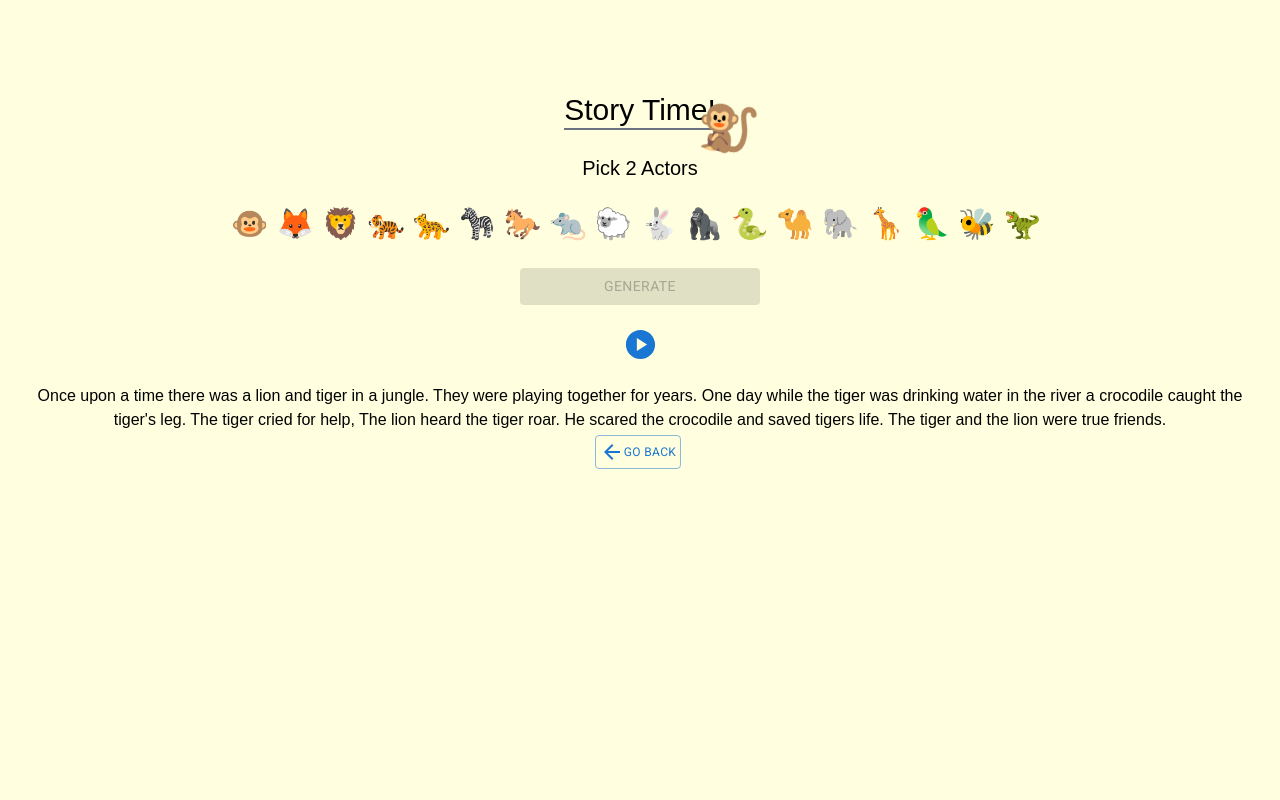
Test: play button is disabled when no story is displayed
Click the button "🦒".
click(886, 224)  # box [867, 206, 905, 242]
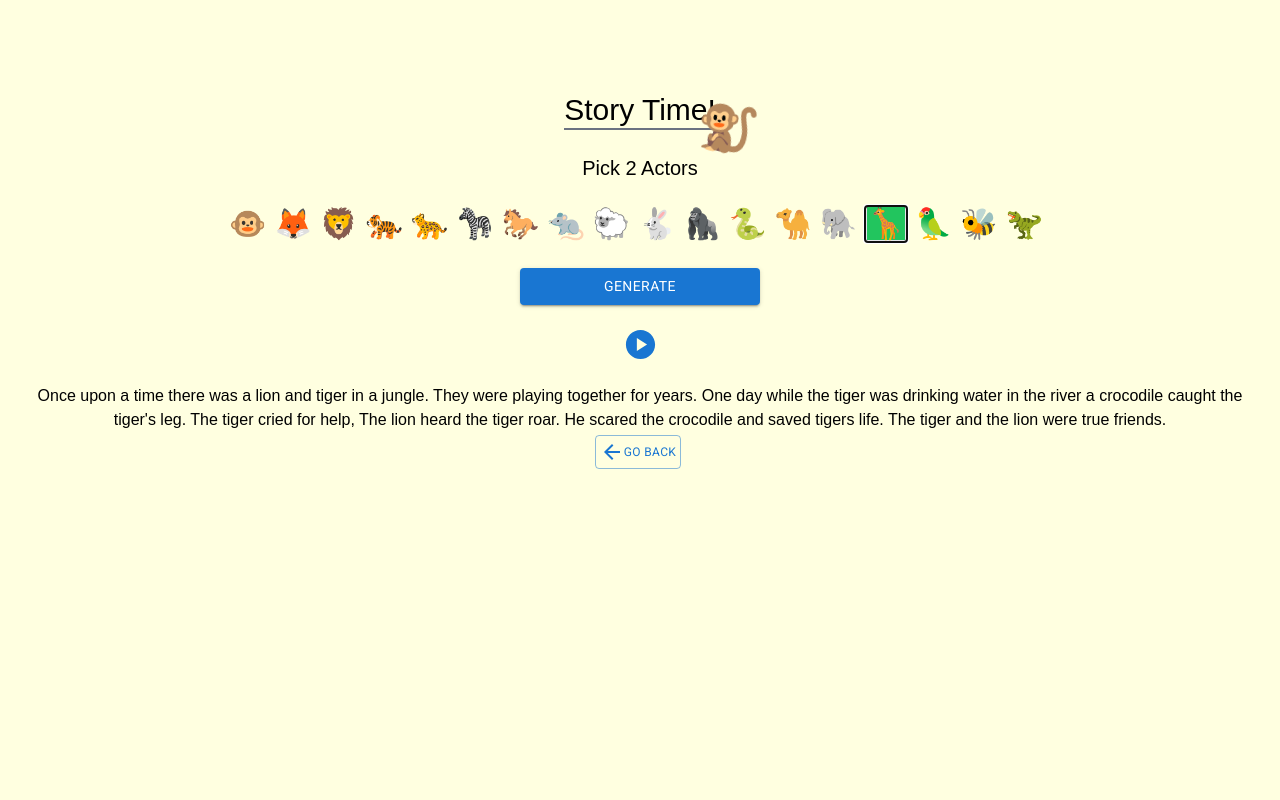
Click the button "Generate".
click(640, 286)  # box [520, 268, 760, 305]
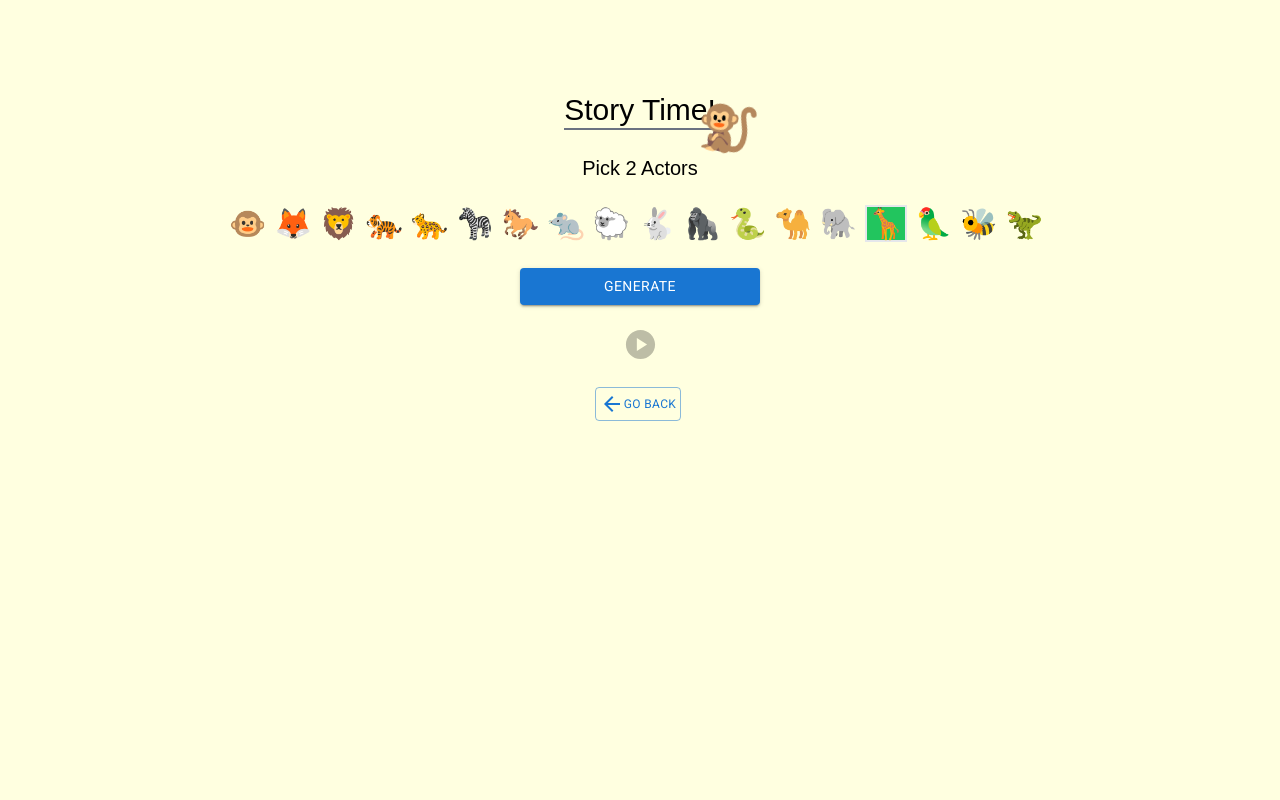
Expected: the button with test id "PlayCircleIcon" is disabled, [608, 321, 672, 368]
